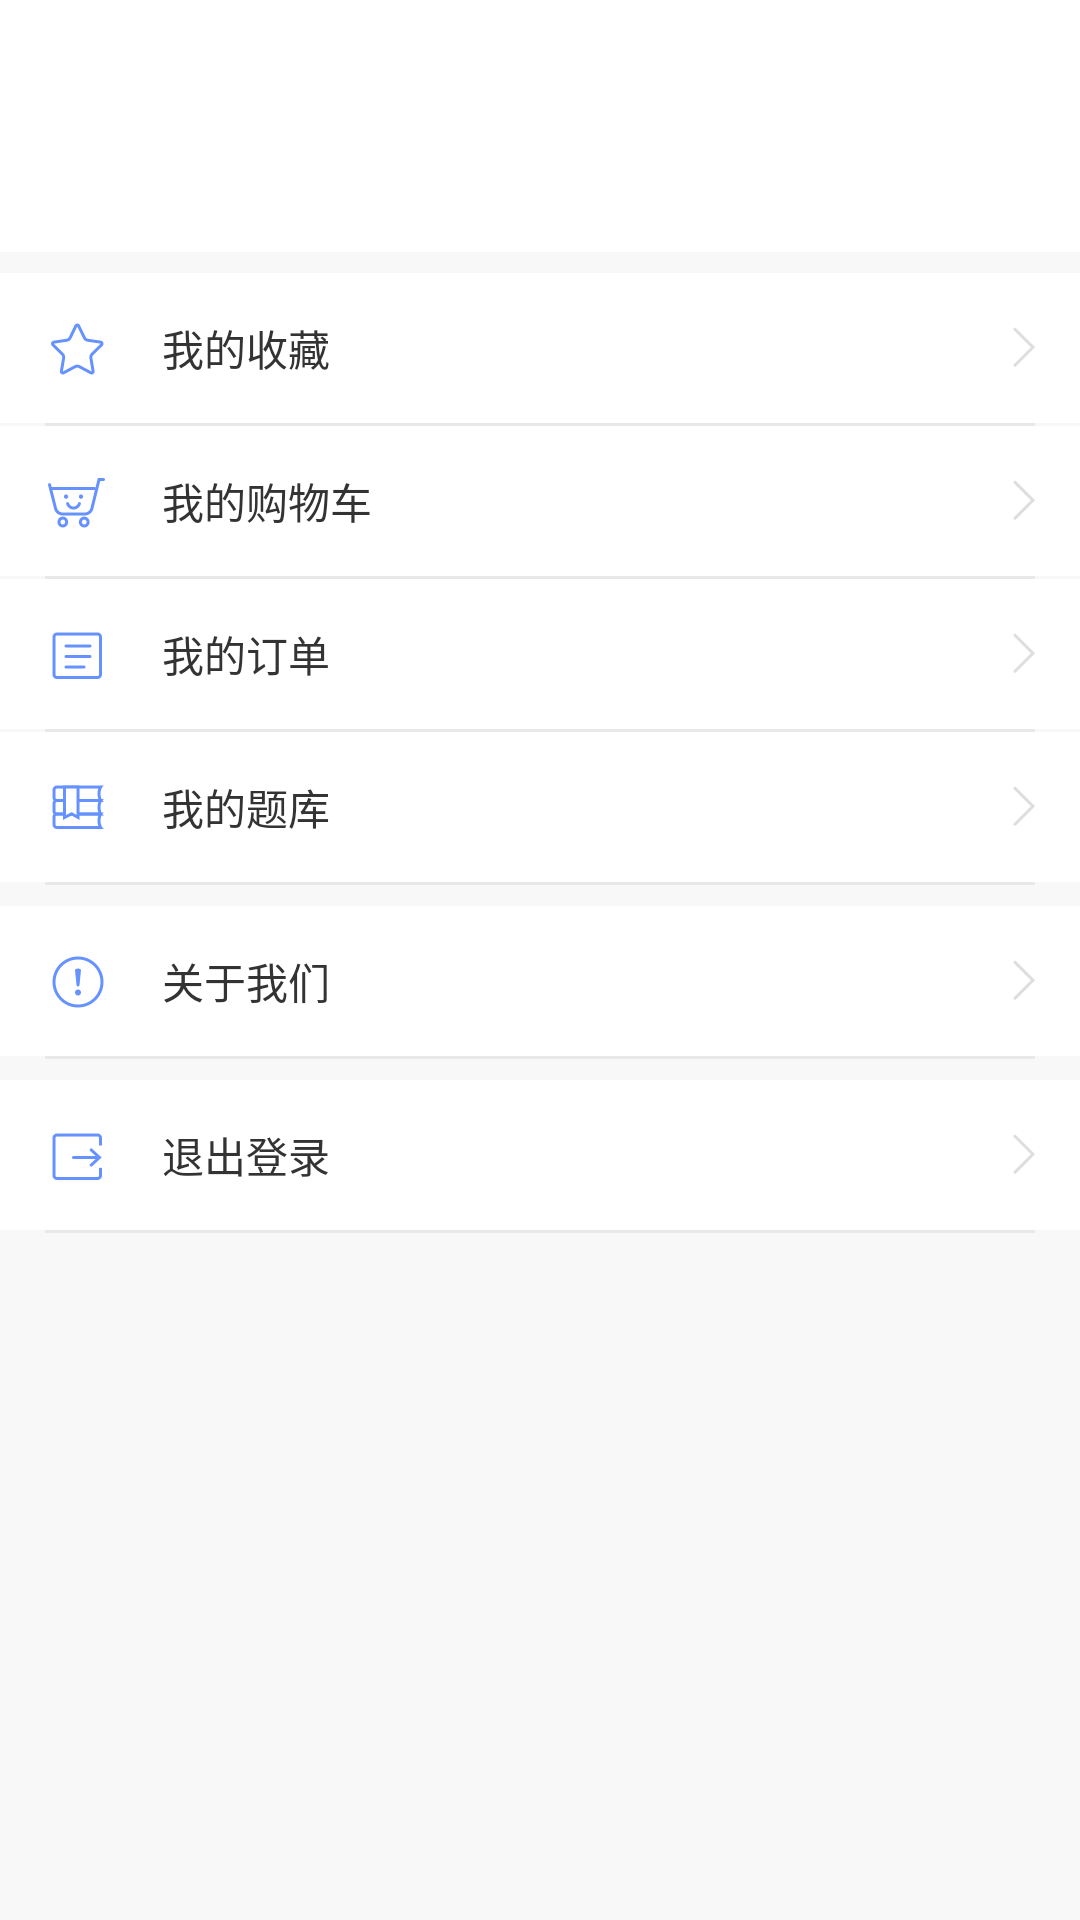

Named icons in this screenshot (1080 × 1920) and their centers, [x,y]:
about us: [78,982]
collection: [77,349]
order: [77,655]
question bank: [78,807]
shoppingcar: [76,503]
